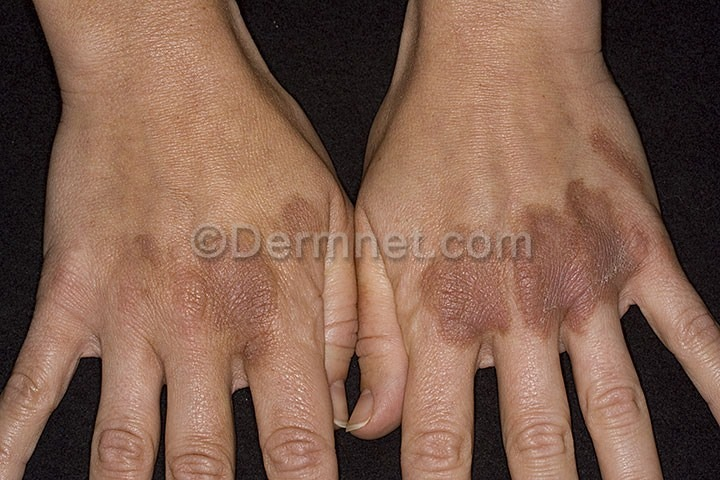Melasma: (344, 14, 720, 232), (166, 260, 299, 359), (109, 220, 176, 304), (275, 189, 331, 232)
